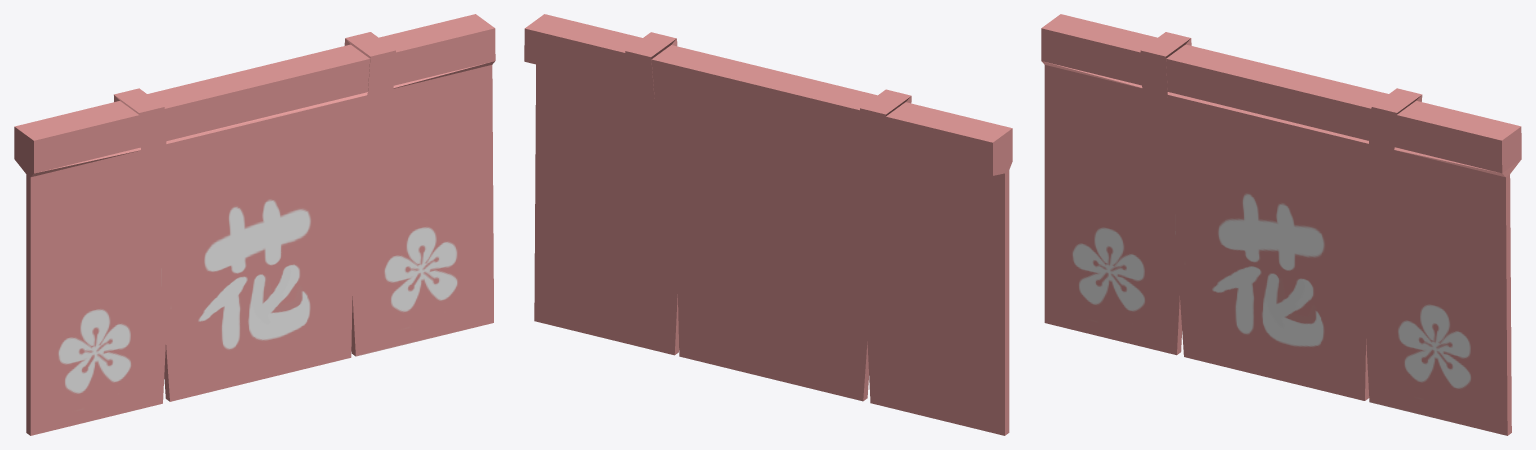
Rendered from Noren_Pink_Flower.gltf.
3 renders of one model, left to right at view 1: azimuth 30°, elevation 25°; view 2: azimuth 150°, elevation 25°; view 3: azimuth 330°, elevation 25°, orthographic.
Parts seen in each view (by area): view 1: Noren_Pink_Flower; view 2: Noren_Pink_Flower; view 3: Noren_Pink_Flower.
Boxes of the visible parts, x1,y1,x2,y2 form: Noren_Pink_Flower: [14, 14, 495, 435]; Noren_Pink_Flower: [524, 14, 1012, 435]; Noren_Pink_Flower: [1041, 14, 1521, 435].
Bounding box in the file's own units: 1 × 0.6267 × 0.0953.
Materials: 1 (1 with a texture image).
